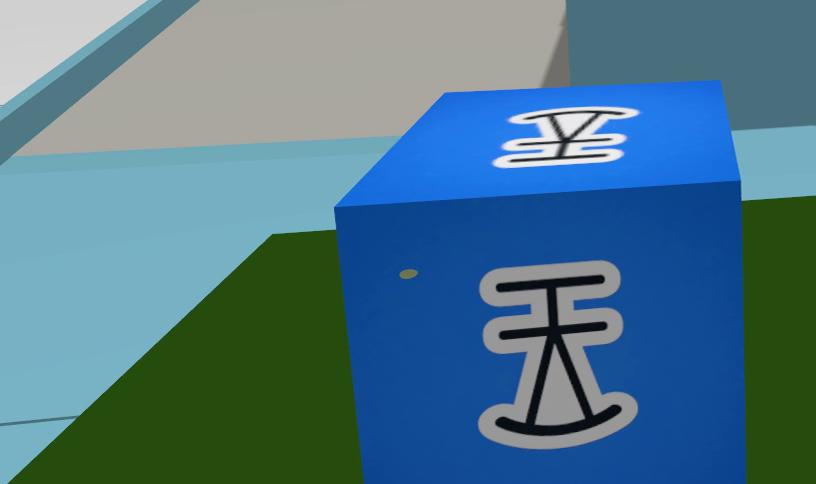KFS_REAL: (334, 82, 744, 483), (480, 261, 636, 448), (493, 106, 640, 166)
